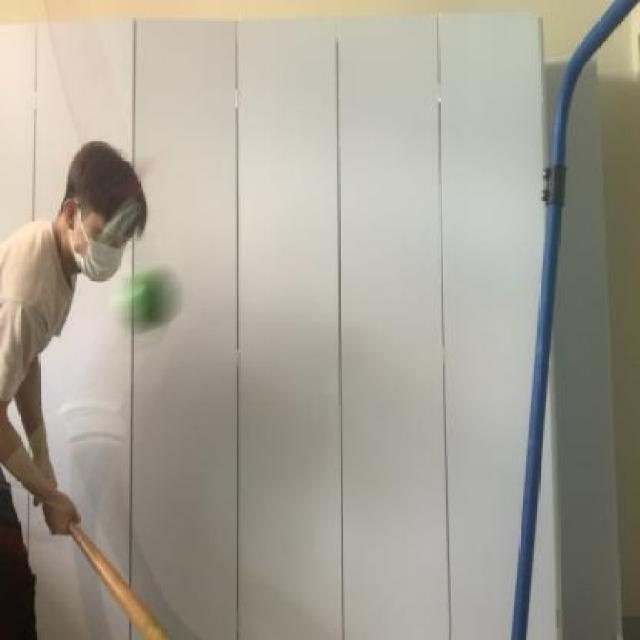baseball: (117, 266, 189, 342)
